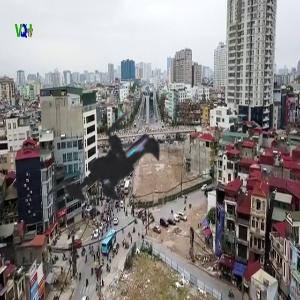drone: (18, 71, 223, 276)
